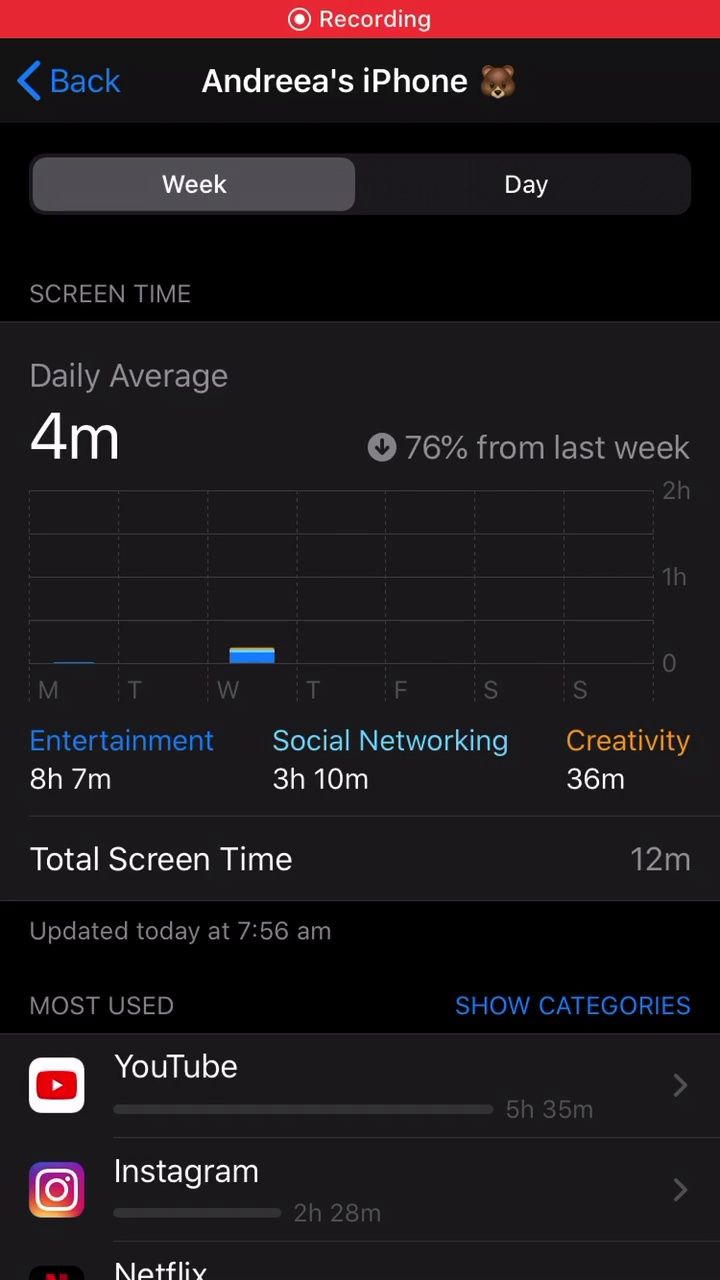use_over: (12, 725, 709, 892)
